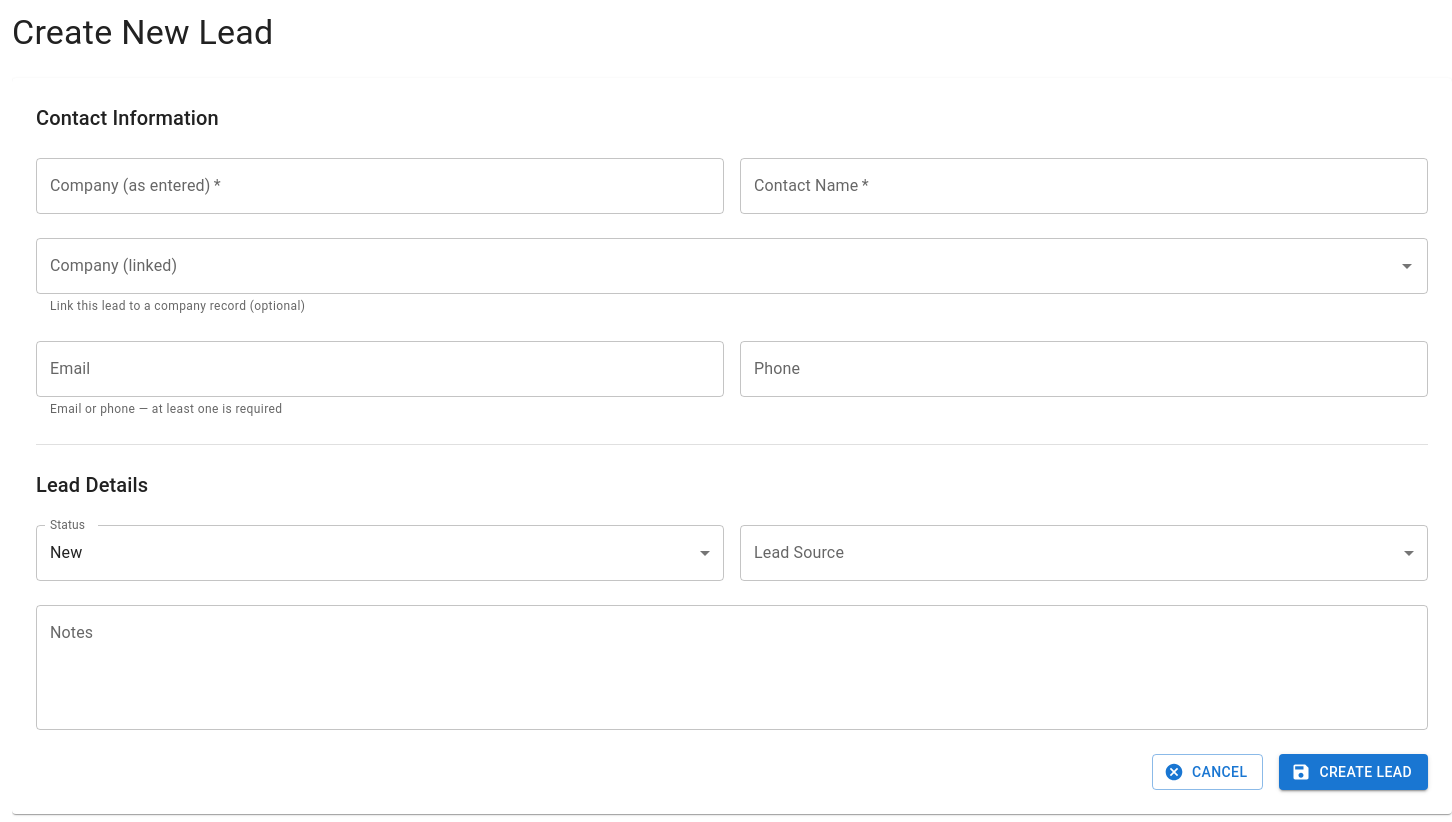
Scenario: LeadForm › Create Mode › does not offer Converted as a status
This screenshot has width=1452, height=822.
Press the mouse on the dropdown named "Status" at {"x": 66, "y": 553}, box left=50, top=543, right=82, bottom=562
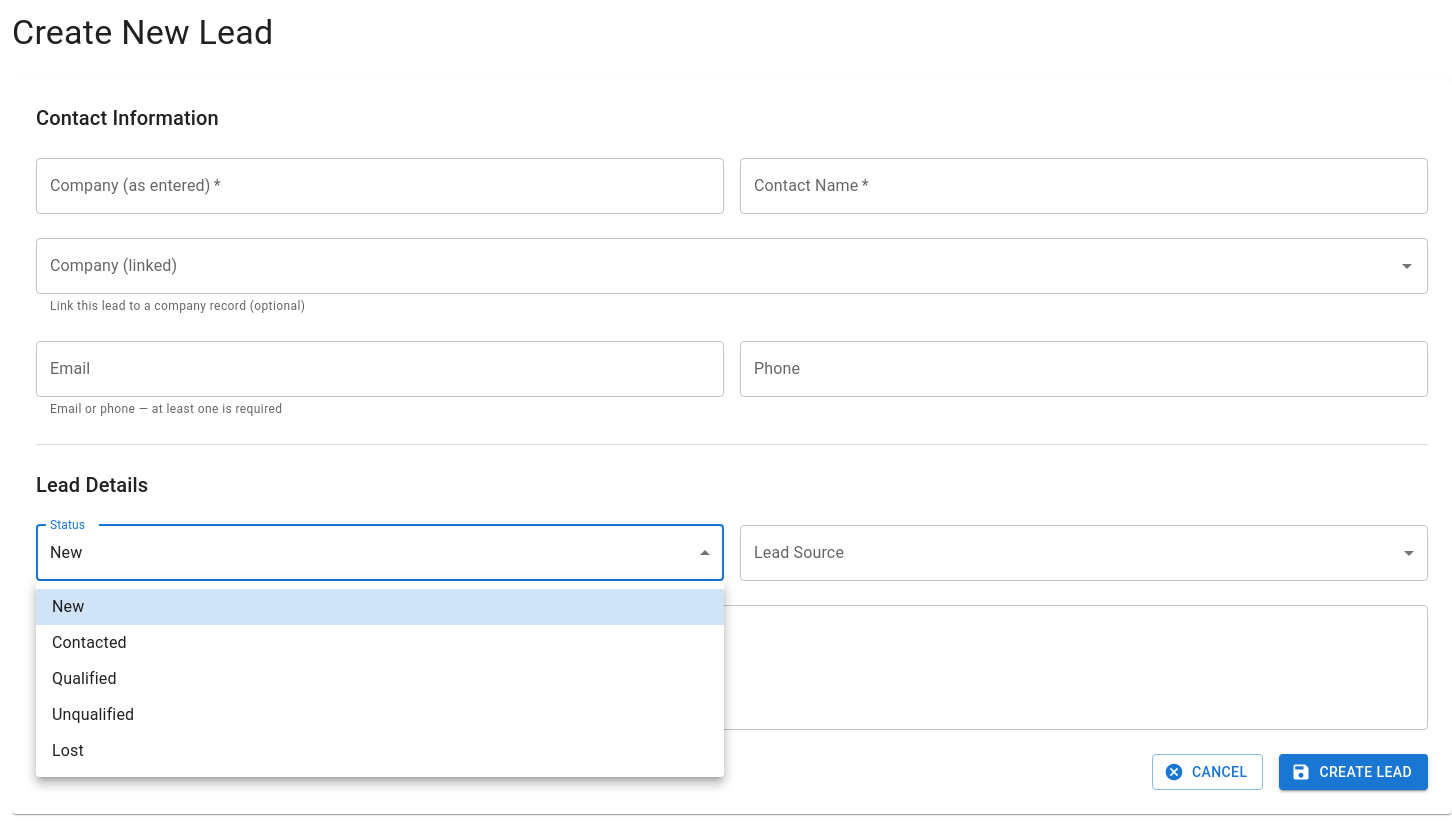
Check: the option "Qualified" is shown, box left=52, top=669, right=117, bottom=688
